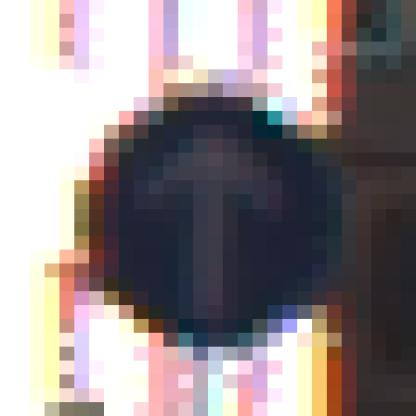AheadOnly: (75, 84, 343, 348)
